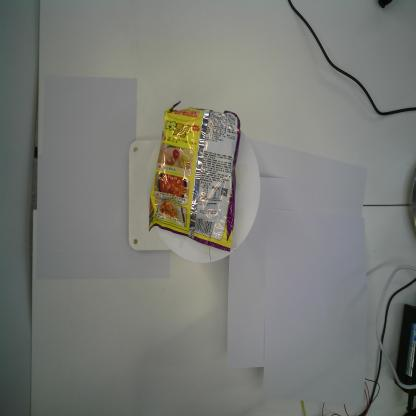Instant Noodles: (146, 98, 242, 254)
